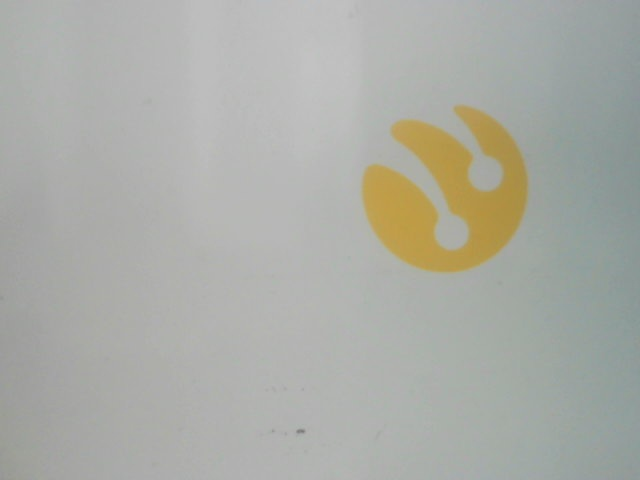AV_H3600Yellow: (360, 98, 535, 275)
